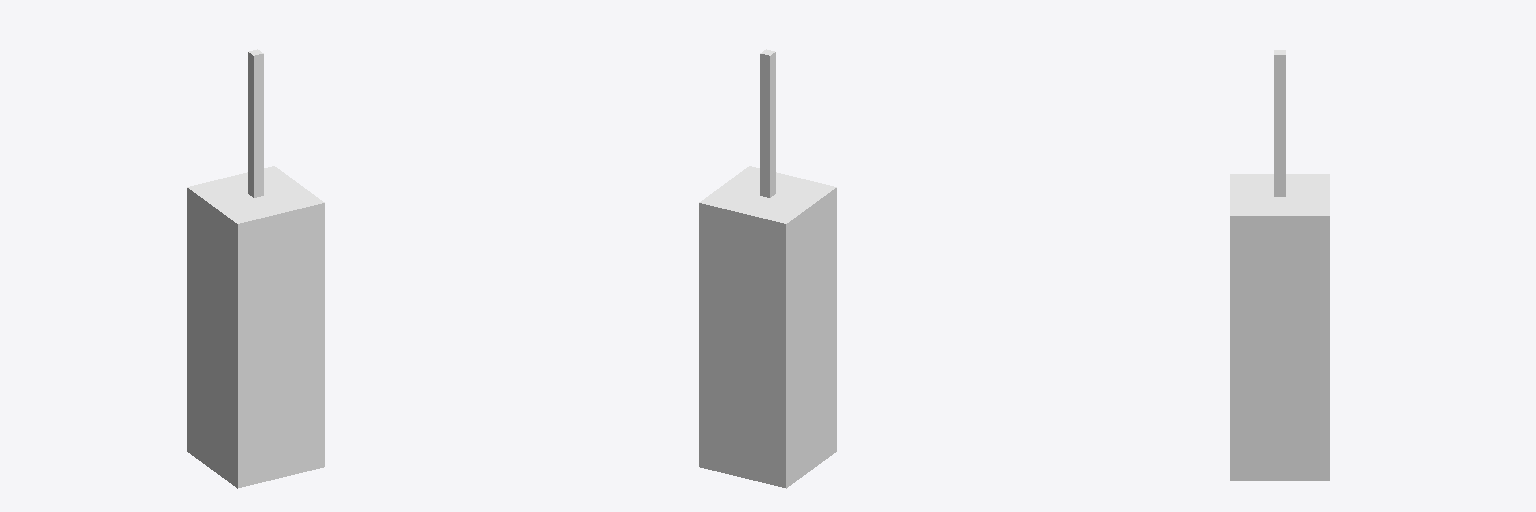
3 views of the same model, side by side, from view 1: azimuth 30°, elevation 25°; view 2: azimuth 150°, elevation 25°; view 3: azimuth 270°, elevation 25° (orthographic).
Parts seen in each view (by area): view 1: LD-1; view 2: LD-1; view 3: LD-1.
Part boxes in pixels (x1,y1,x2,y2): LD-1: (187, 49, 324, 488); LD-1: (699, 49, 836, 488); LD-1: (1230, 50, 1329, 480).
Size of the model in its own units: 9 by 40 by 9.